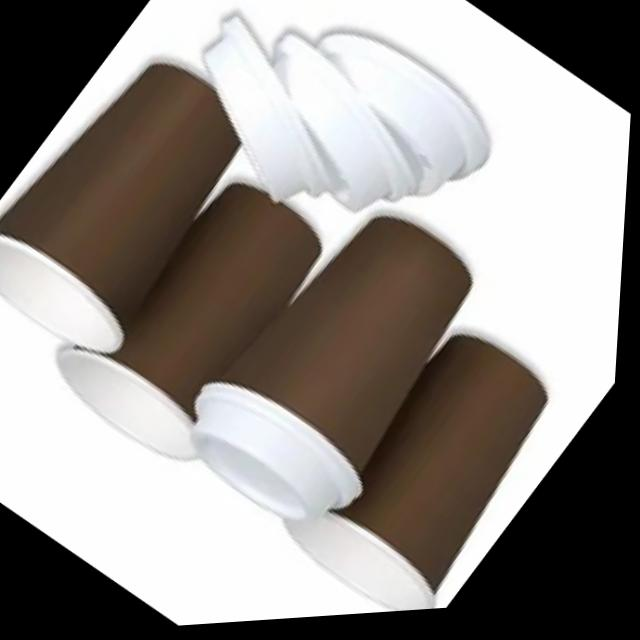paper_cups: (159, 171, 527, 563), (37, 146, 363, 488), (0, 20, 291, 384), (274, 302, 599, 624)
